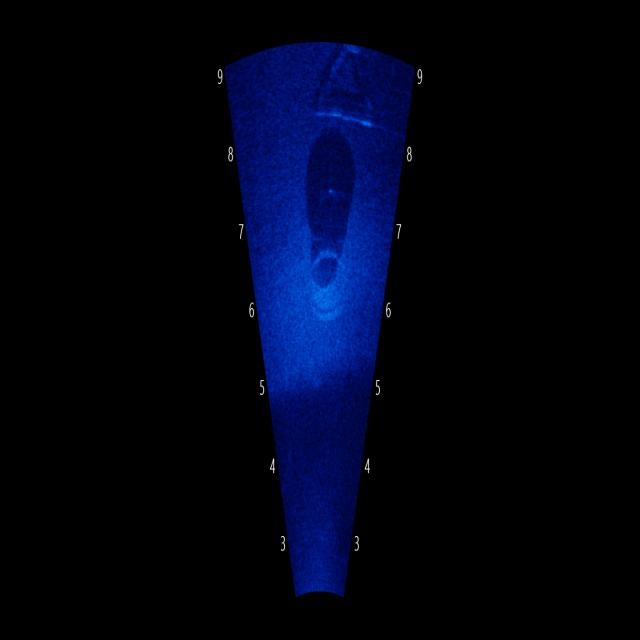circle: (303, 226, 350, 340)
